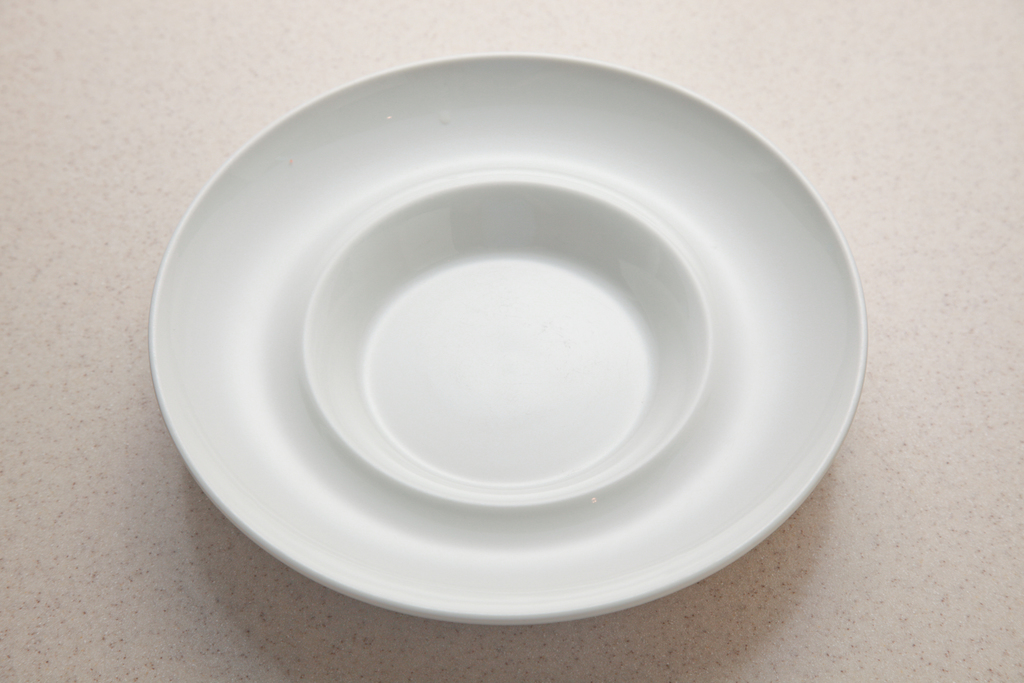plate: (147, 51, 868, 624)
